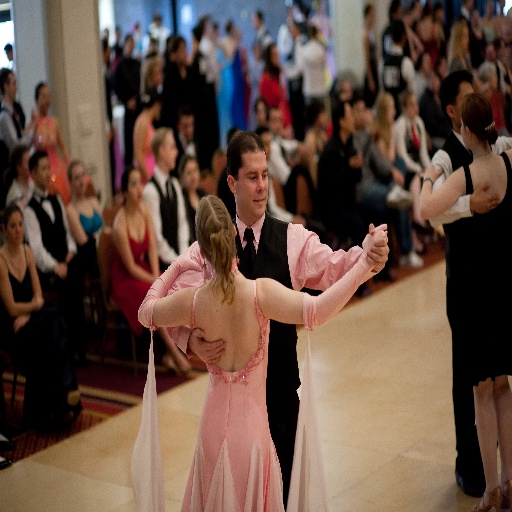hand: (188, 325, 226, 366), (364, 219, 389, 275), (470, 178, 501, 214), (173, 240, 205, 273), (417, 163, 444, 184), (11, 314, 30, 332), (54, 262, 69, 279), (389, 168, 403, 183), (34, 295, 47, 309), (30, 107, 39, 121)
